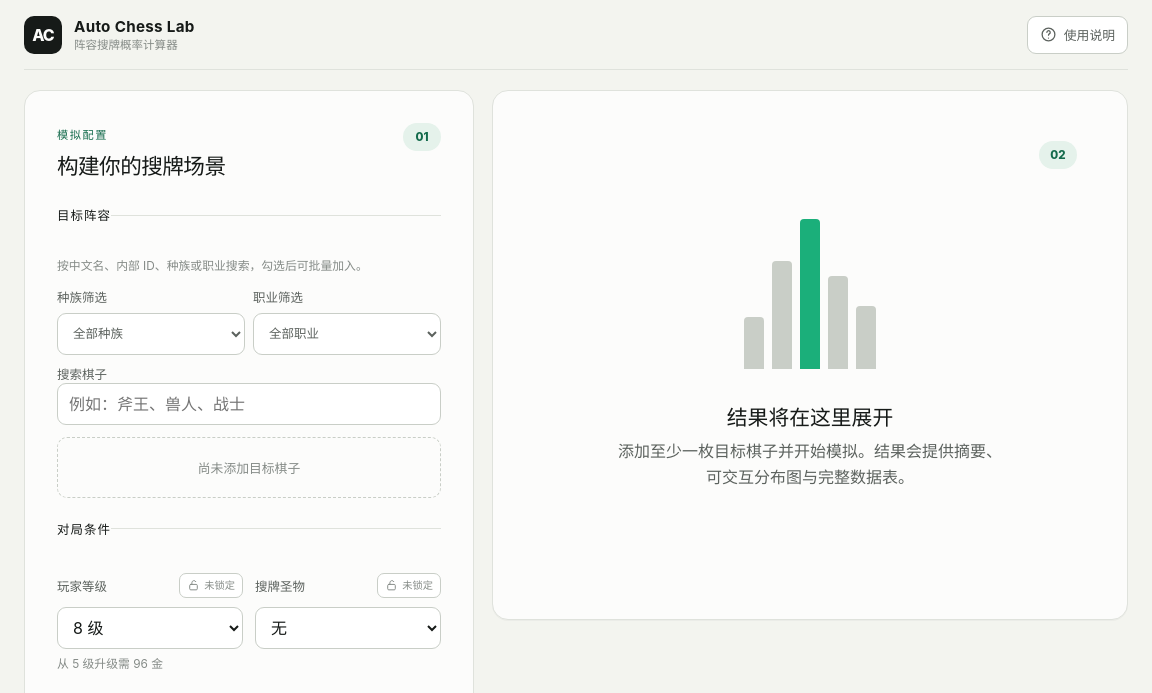
it: Auto Chess simulator UI › offers two and four copy targets for druids
Type "先知" into the dropdown labelled "搜索棋子". click: (249, 404)
box: x1=57 y1=383 x2=441 y2=425
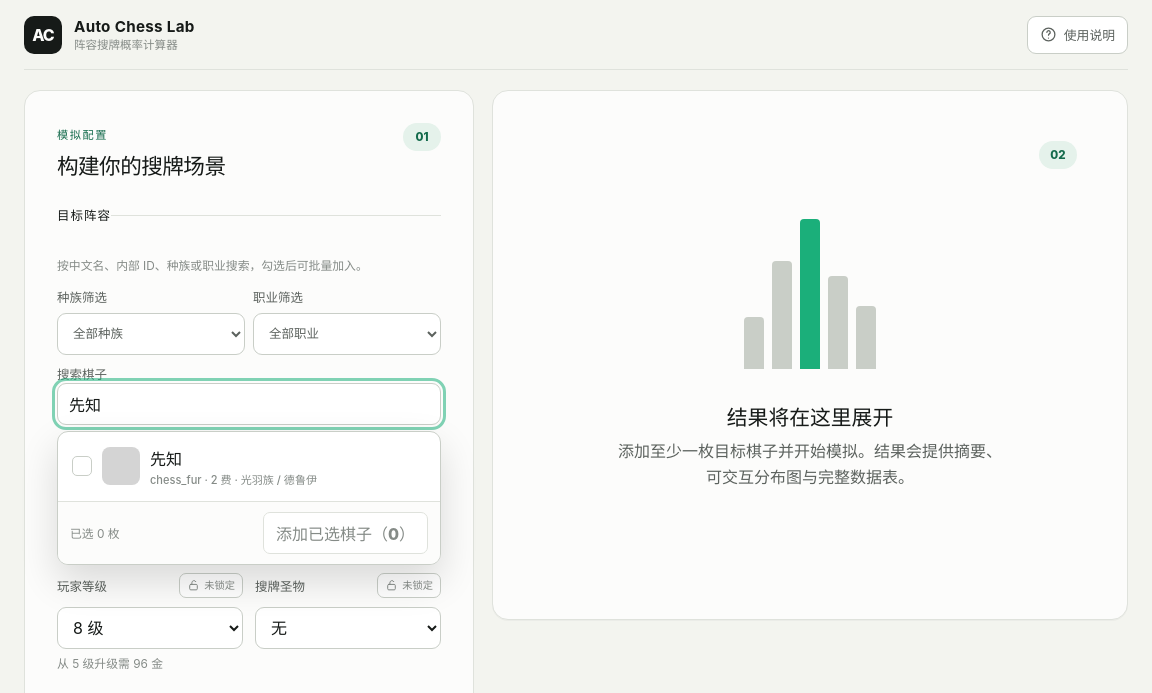
Click the option "先知 chess_fur · 2 费 · 光羽族 / 德鲁伊". click: (121, 466)
box: x1=64 y1=438 x2=434 y2=495
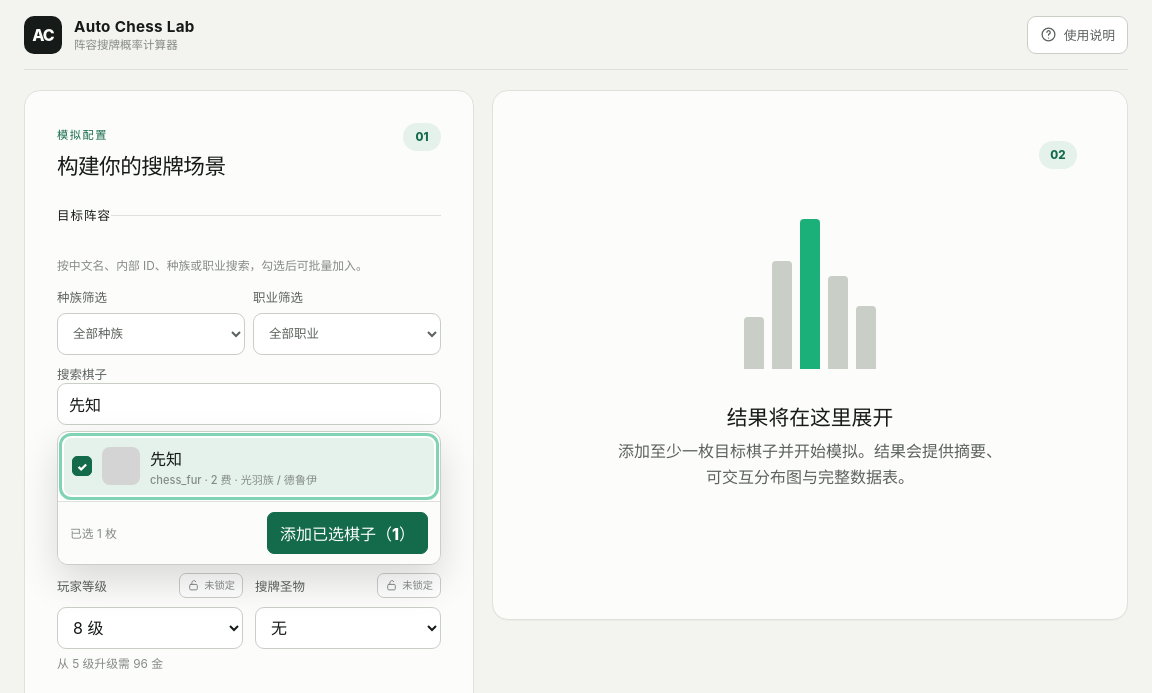
Click the button "添加已选棋子（1）". click: (347, 533)
box: x1=267 y1=512 x2=428 y2=554
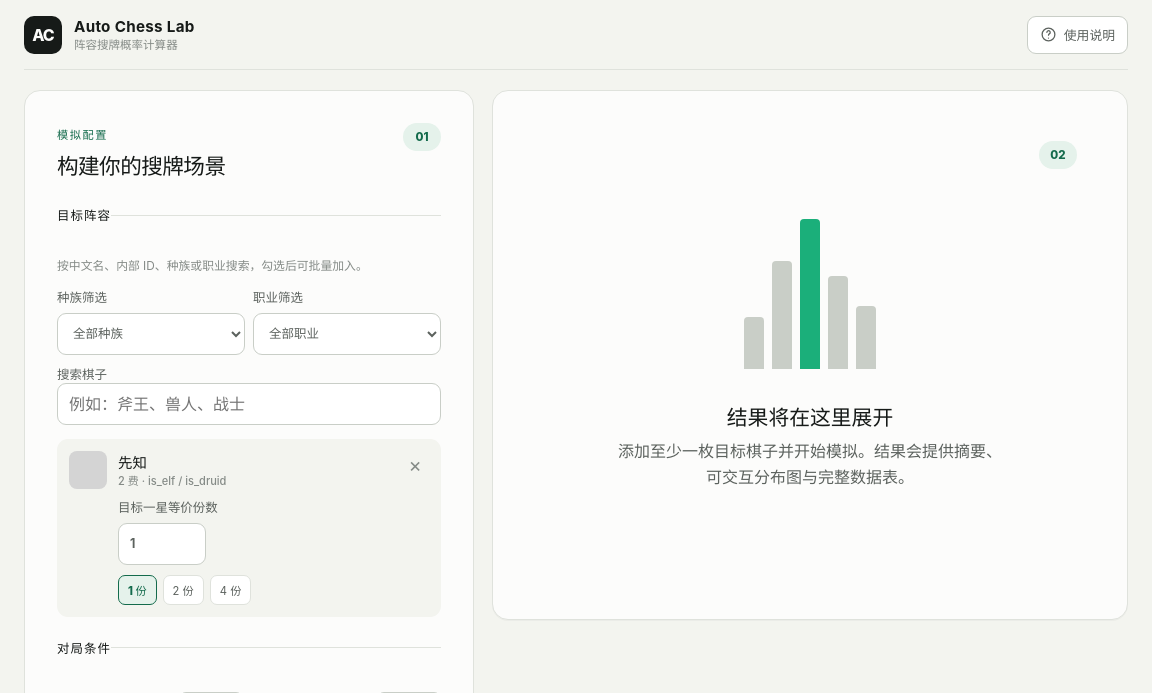
Result: the button named "设为 2 份" is shown at x1=163 y1=575 x2=204 y2=605
Result: the button named "设为 4 份" is shown at x1=210 y1=575 x2=251 y2=605
